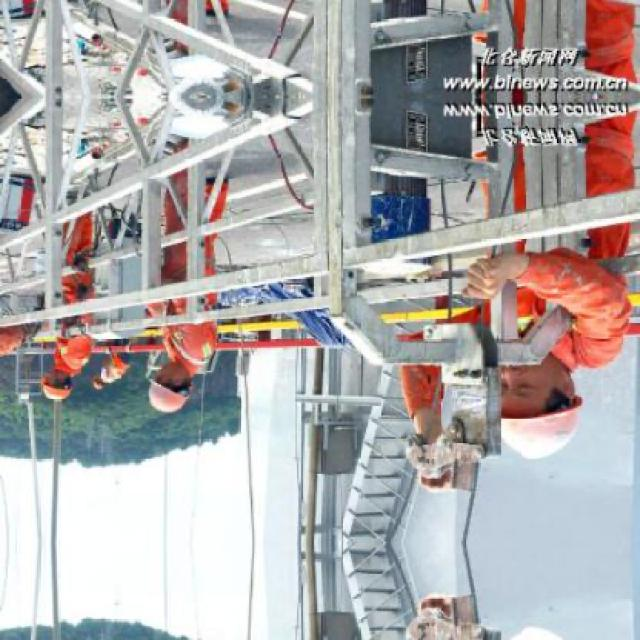con casco: (451, 371, 607, 474), (133, 370, 219, 435), (0, 342, 86, 404)
